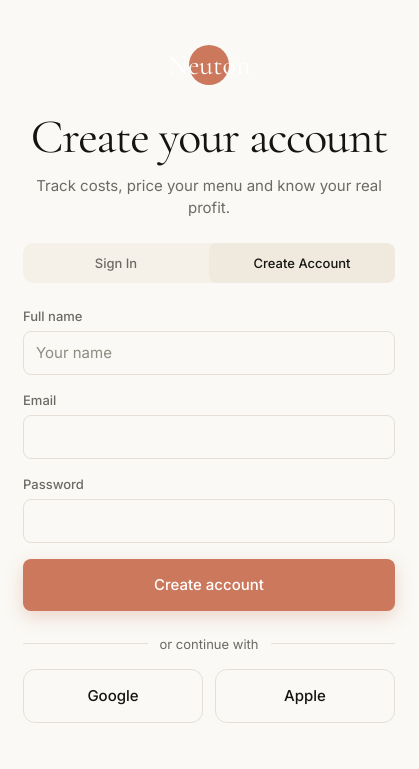
AuthPage sign up › asks the user to confirm their email when signup returns no session
Type "Test User" into the field labelled "Full name" at {"x": 209, "y": 353}, box [23,331,395,375]
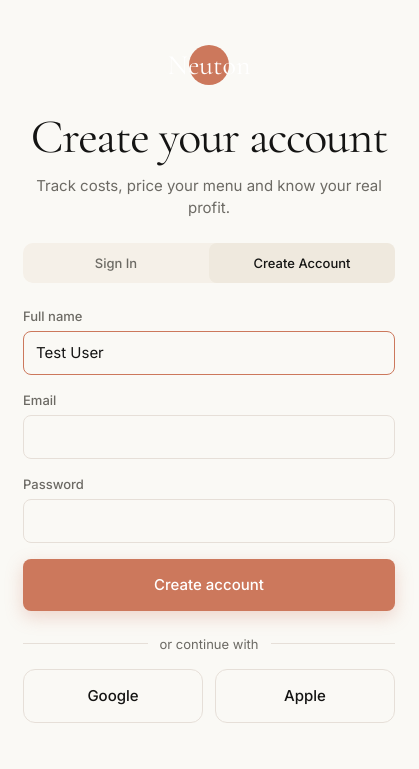
Type "testtest@gmail.com" into the field labelled "Email" at {"x": 209, "y": 437}, box [23,415,395,459]
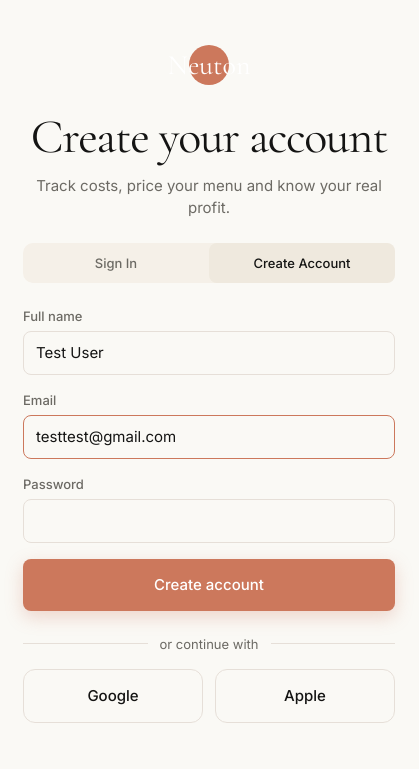
Type "testTest" into the password field labelled "Password" at {"x": 209, "y": 521}, box [23,499,395,543]
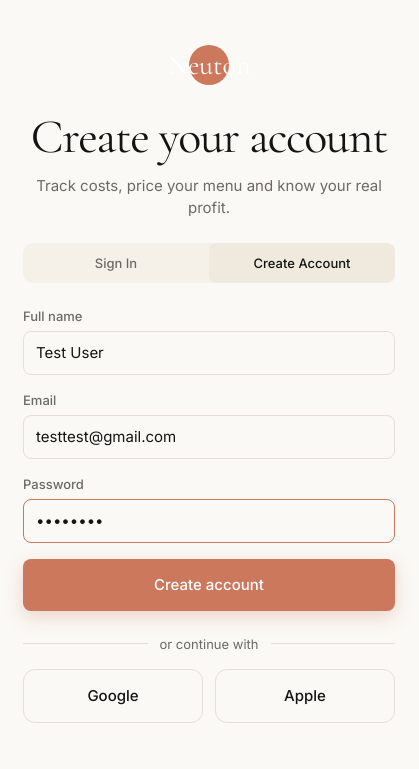
Click the button "Create account" at {"x": 209, "y": 585}, box [23,559,395,611]
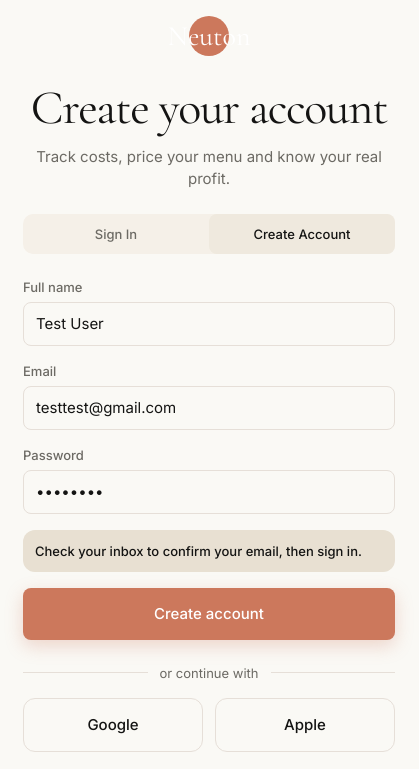
Check: the message shows "Check your inbox", box [35,543,362,559]
